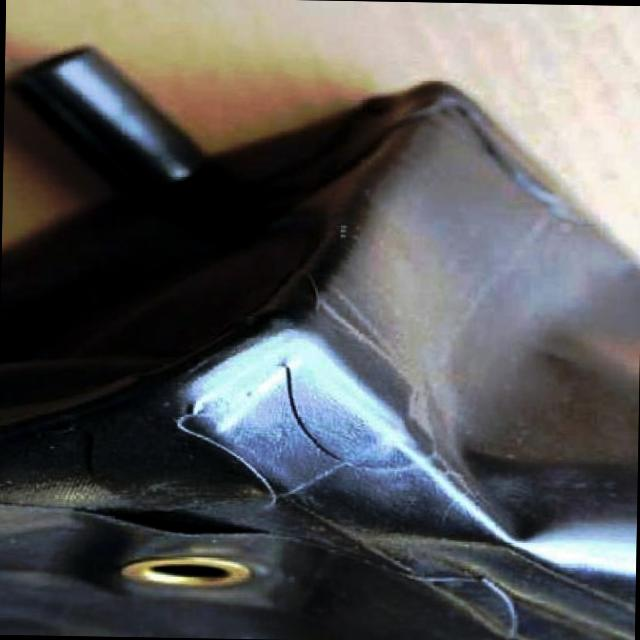crack: (258, 339, 368, 463)
